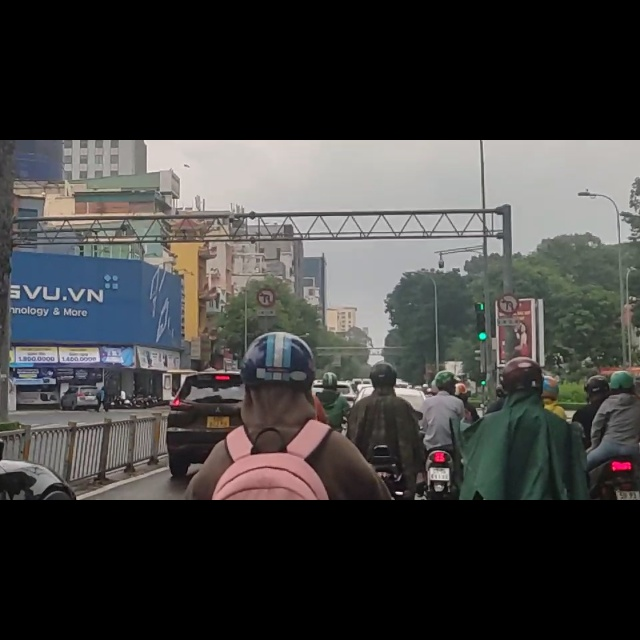bien_cam: (499, 270, 519, 309), (256, 260, 276, 295)
